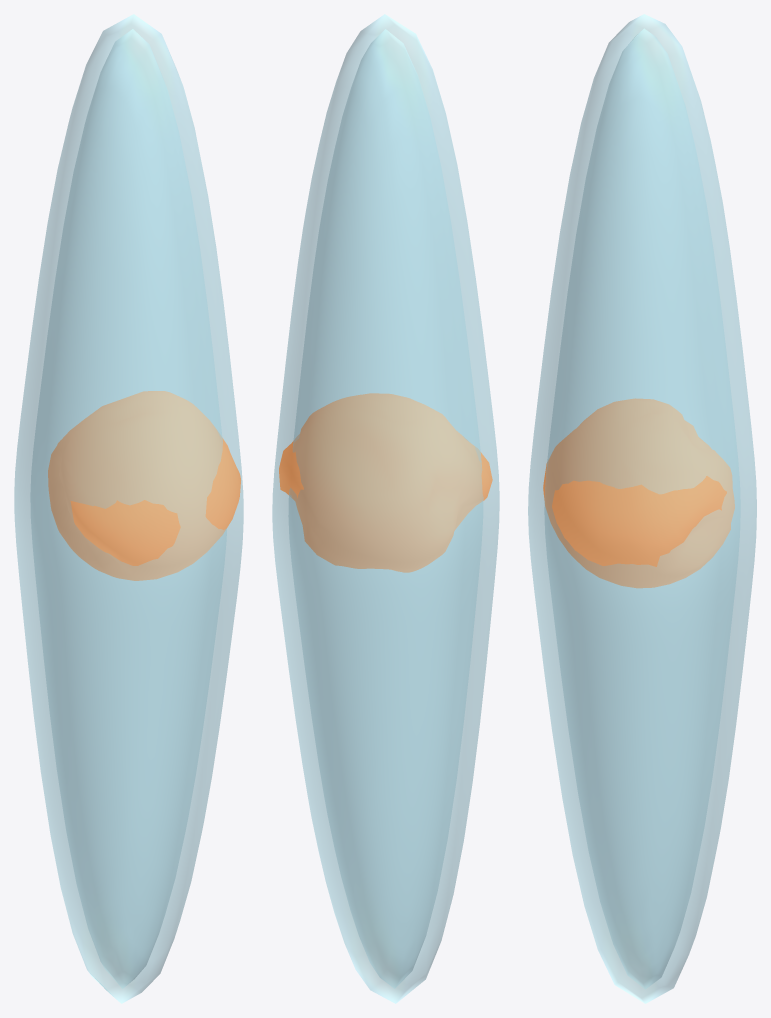
The model's file is ufo.glb.
3 renders of one model, left to right at view 1: azimuth 30°, elevation 25°; view 2: azimuth 150°, elevation 25°; view 3: azimuth 270°, elevation 25°, orthographic.
Visible parts, largest first — view 1: water ship, Sphere; view 2: water ship, Sphere; view 3: water ship, Sphere.
Boxes of the visible parts, x1=… form: water ship: x1=14, y1=14, x2=243, y2=1003; Sphere: x1=48, y1=391, x2=240, y2=580; water ship: x1=272, y1=14, x2=499, y2=1003; Sphere: x1=279, y1=393, x2=492, y2=572; water ship: x1=528, y1=14, x2=756, y2=1003; Sphere: x1=543, y1=398, x2=734, y2=587.
Bounding box in the file's own units: 2.13 × 10.08 × 2.1.
